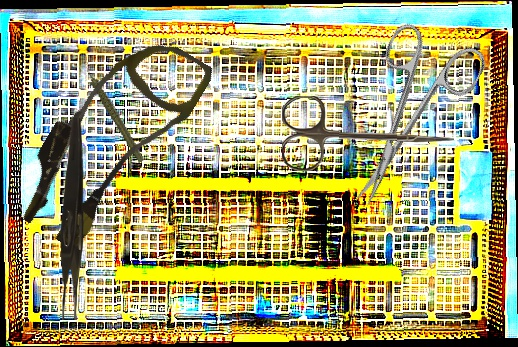Cannula: (4, 13, 217, 266)
Dressing Forceps: (61, 118, 84, 320)
Handpiece: (83, 54, 146, 170)
Iris Scissors: (316, 12, 491, 224), (281, 95, 455, 174)
